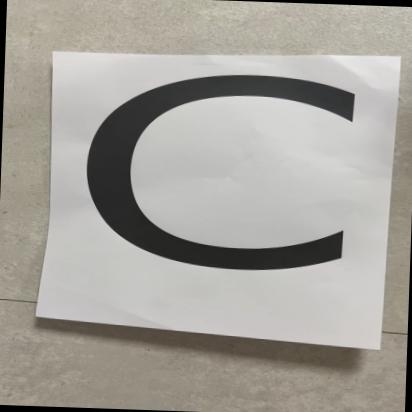seat: (59, 56, 396, 324)
